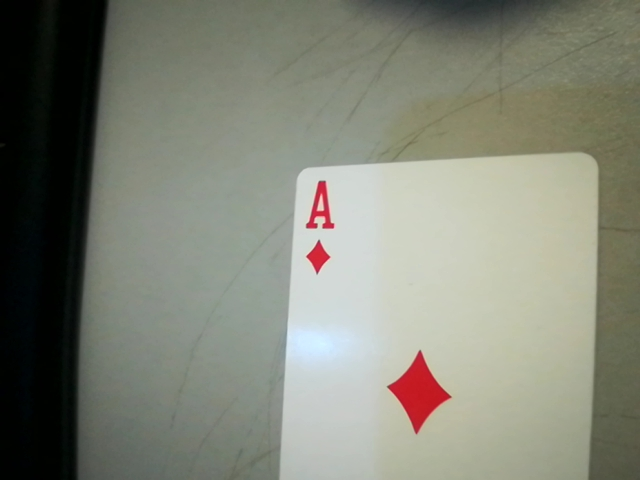fk a: (292, 174, 347, 277)
